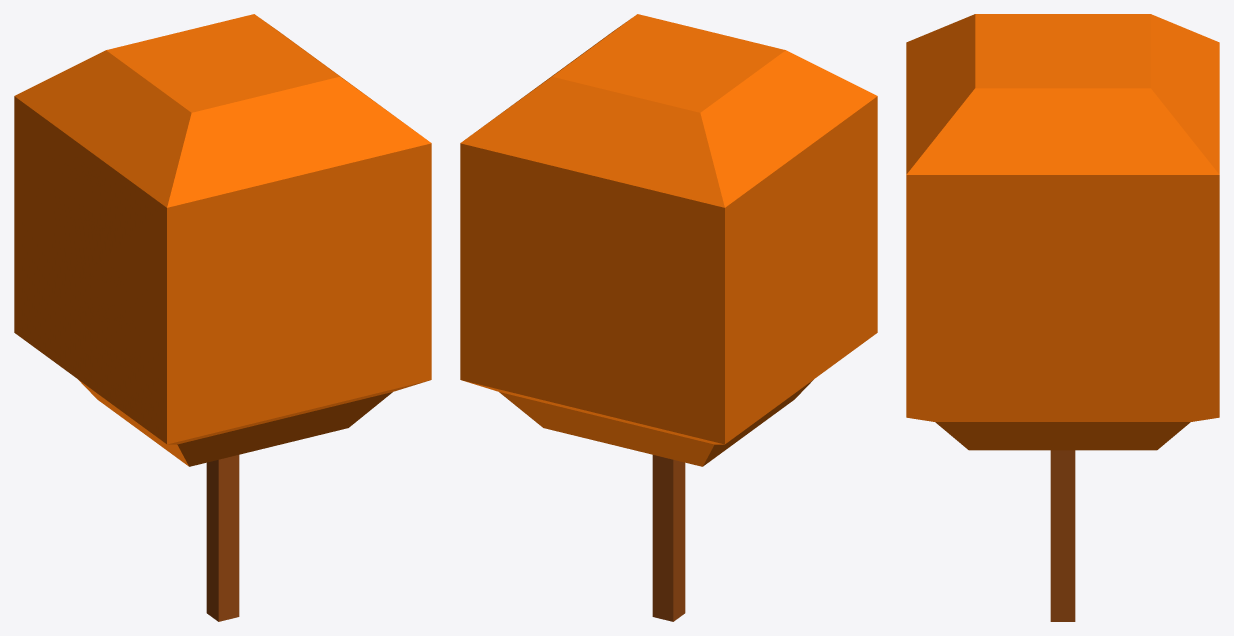
File: Tree_31_Fall.fbx
3 views of the same model, side by side, from view 1: azimuth 30°, elevation 25°; view 2: azimuth 150°, elevation 25°; view 3: azimuth 270°, elevation 25° (orthographic). The views are drawn at different scales.
Visible parts, largest first — view 1: Tree_31_Fall; view 2: Tree_31_Fall; view 3: Tree_31_Fall.
Boxes of the visible parts, box(x1,y1,x2,y2) form: Tree_31_Fall: box(14, 14, 431, 621); Tree_31_Fall: box(460, 14, 877, 621); Tree_31_Fall: box(906, 14, 1219, 621).
Size of the model in its own units: 180 by 359 by 180.
